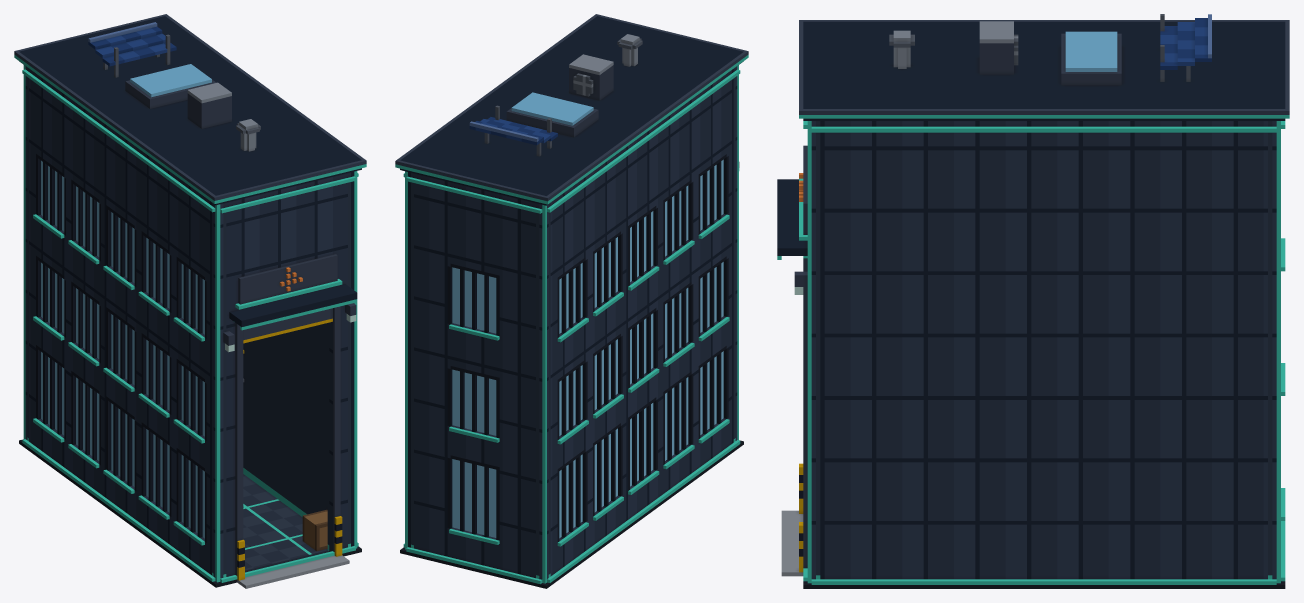
Rendered from workshop_e4_l2.glb.
The picture shows the model from 3 angles, left to right: view 1: azimuth 30°, elevation 25°; view 2: azimuth 150°, elevation 25°; view 3: azimuth 270°, elevation 25°; orthographic projection. The views are drawn at different scales.
Parts seen in each view (by area): view 1: CutNX, CutPZ, CutRoof, Base, CutPX, CutNZ; view 2: CutNX, CutNZ, CutRoof, Base, CutPZ; view 3: CutPX, CutRoof, Base, CutPZ, CutNZ.
Part boxes in pixels (bbox=[...]): CutNX: bbox=[22, 69, 215, 549]; CutPZ: bbox=[212, 171, 357, 553]; CutRoof: bbox=[14, 14, 366, 205]; Base: bbox=[19, 350, 361, 588]; CutPX: bbox=[243, 173, 358, 506]; CutNZ: bbox=[23, 65, 28, 415]; CutNX: bbox=[547, 69, 740, 550]; CutNZ: bbox=[405, 171, 550, 554]; CutRoof: bbox=[395, 14, 748, 205]; Base: bbox=[400, 413, 743, 588]; CutPZ: bbox=[733, 65, 739, 416]; CutPX: bbox=[811, 121, 1276, 548]; CutRoof: bbox=[799, 14, 1289, 120]; Base: bbox=[781, 479, 1285, 588]; CutPZ: bbox=[777, 121, 820, 548]; CutNZ: bbox=[1268, 121, 1285, 548].
Size of the model in its own units: 5 by 13.2 by 11.9.
